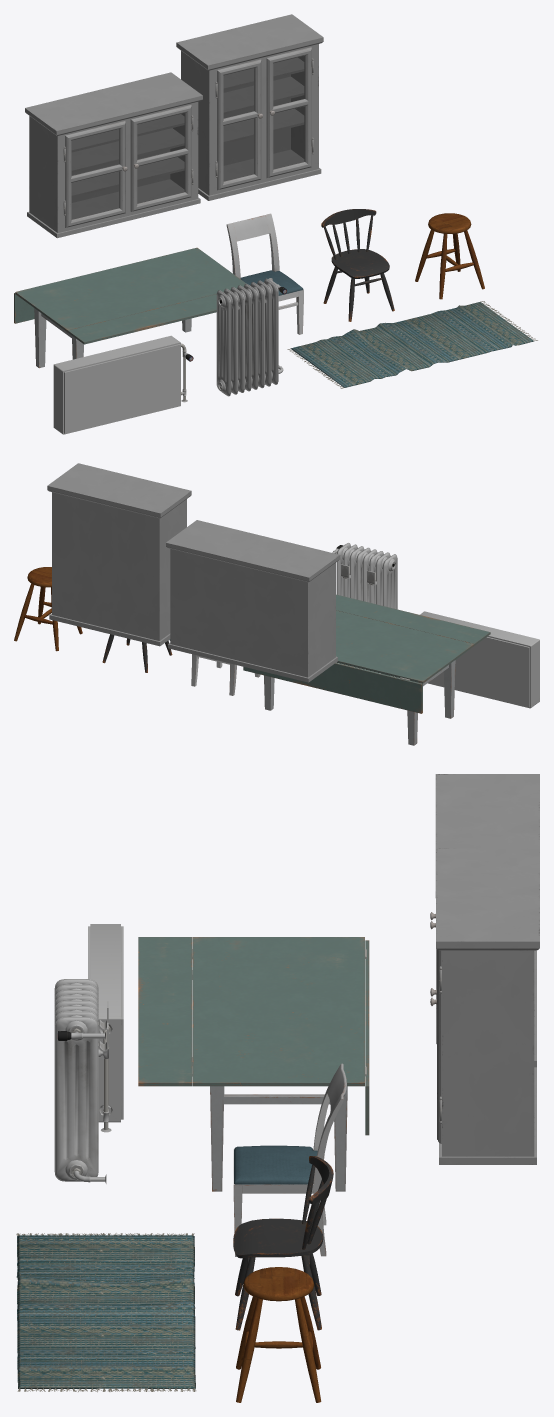
Rendered from kitchen_furniture.glb.
3 renders of one model, top to bottom at view 1: azimuth 30°, elevation 25°; view 2: azimuth 150°, elevation 25°; view 3: azimuth 270°, elevation 25°, orthographic. The views are drawn at different scales.
Visible parts, largest first — view 1: Cupboard_Kitchen_A_8, Cupboard_Kitchen_B_7, Table_Kitchen_A_2, Carpet_A_6, Radiator_B_0, Radiator_A_1, Chair_Kitchen_B_3, Chair_Kitchen_A_4, Stool_A_5; view 2: Cupboard_Kitchen_A_8, Cupboard_Kitchen_B_7, Table_Kitchen_A_2, Radiator_B_0, Radiator_A_1, Stool_A_5, Chair_Kitchen_A_4, Chair_Kitchen_B_3; view 3: Table_Kitchen_A_2, Cupboard_Kitchen_B_7, Carpet_A_6, Radiator_A_1, Cupboard_Kitchen_A_8, Chair_Kitchen_A_4, Chair_Kitchen_B_3, Radiator_B_0, Stool_A_5.
Boxes of the visible parts, left/top/right/bottom form: Cupboard_Kitchen_A_8: left=25, top=72, right=202, bottom=238; Cupboard_Kitchen_B_7: left=176, top=14, right=323, bottom=200; Table_Kitchen_A_2: left=14, top=247, right=245, bottom=368; Carpet_A_6: left=287, top=301, right=537, bottom=388; Radiator_B_0: left=53, top=335, right=193, bottom=434; Radiator_A_1: left=216, top=278, right=286, bottom=396; Chair_Kitchen_B_3: left=321, top=209, right=394, bottom=321; Chair_Kitchen_A_4: left=226, top=213, right=303, bottom=334; Stool_A_5: left=415, top=213, right=484, bottom=299; Cupboard_Kitchen_A_8: left=166, top=520, right=340, bottom=682; Cupboard_Kitchen_B_7: left=47, top=463, right=191, bottom=646; Table_Kitchen_A_2: left=243, top=594, right=490, bottom=745; Radiator_B_0: left=420, top=611, right=539, bottom=708; Radiator_A_1: left=332, top=543, right=397, bottom=609; Stool_A_5: left=14, top=567, right=82, bottom=651; Chair_Kitchen_A_4: left=191, top=654, right=260, bottom=695; Chair_Kitchen_B_3: left=102, top=634, right=172, bottom=672; Table_Kitchen_A_2: left=138, top=937, right=369, bottom=1191; Cupboard_Kitchen_B_7: left=430, top=848, right=539, bottom=1164; Carpet_A_6: left=16, top=1233, right=196, bottom=1392; Radiator_A_1: left=54, top=979, right=108, bottom=1183; Cupboard_Kitchen_A_8: left=430, top=774, right=539, bottom=1067; Chair_Kitchen_A_4: left=233, top=1063, right=346, bottom=1256; Chair_Kitchen_B_3: left=233, top=1156, right=333, bottom=1330; Radiator_B_0: left=88, top=924, right=123, bottom=1132; Stool_A_5: left=236, top=1267, right=321, bottom=1402.
Bounding box in the file's own units: 5.14 × 2.44 × 3.05.
Materials: 7 (6 with a texture image).
